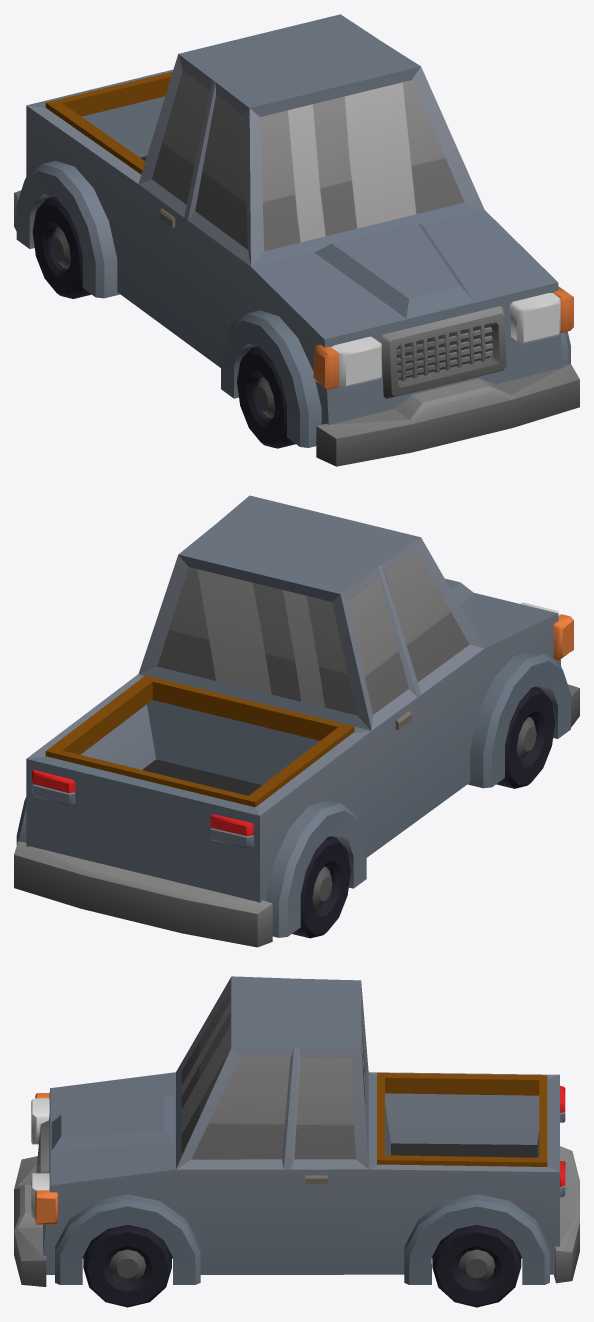
File: PickUp_11.fbx
3 views of the same model, one above another, from view 1: azimuth 30°, elevation 25°; view 2: azimuth 150°, elevation 25°; view 3: azimuth 270°, elevation 25° (orthographic). The views are drawn at different scales.
Visible parts, largest first — view 1: PickUp_11, BWhel_BR, BWhel_FR; view 2: PickUp_11, BWhel_BR, BWhel_FR; view 3: PickUp_11, BWhel_BL, BWhel_FL.
Part boxes in pixels (box(x1,y1,x2,y2)): PickUp_11: box(14, 14, 579, 466); BWhel_BR: box(32, 197, 91, 298); BWhel_FR: box(237, 346, 295, 448); PickUp_11: box(14, 495, 579, 947); BWhel_BR: box(292, 836, 350, 938); BWhel_FR: box(496, 687, 554, 788); PickUp_11: box(14, 976, 579, 1286); BWhel_BL: box(432, 1225, 521, 1307); BWhel_FL: box(83, 1225, 171, 1307).
Bounding box in the file's own units: 1.09 × 1.08 × 2.3.
